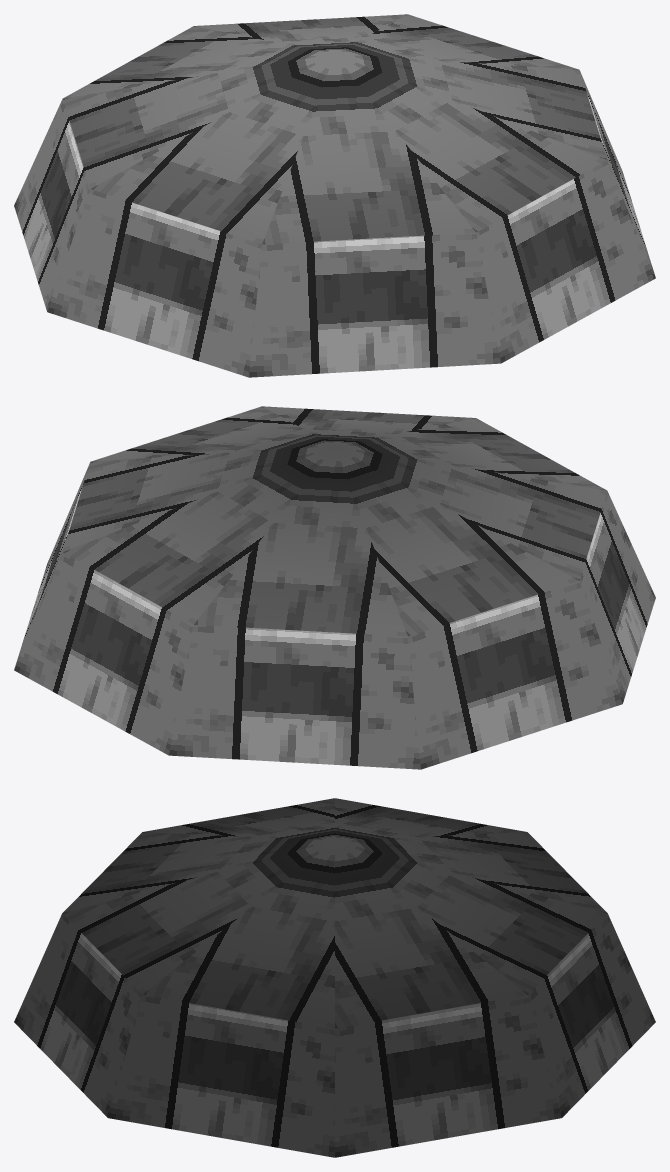
File: PlandmineZ.obj
The picture shows the model from 3 angles, top to bottom: view 1: azimuth 30°, elevation 25°; view 2: azimuth 150°, elevation 25°; view 3: azimuth 270°, elevation 25°; orthographic projection. The views are drawn at different scales.
Size of the model in its own units: 840 by 262 by 840.
2 materials, 2 textured.
